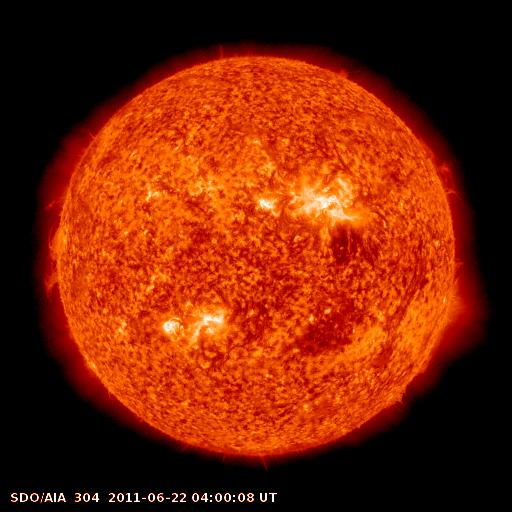prominence: (39, 189, 73, 305), (413, 131, 464, 202)
